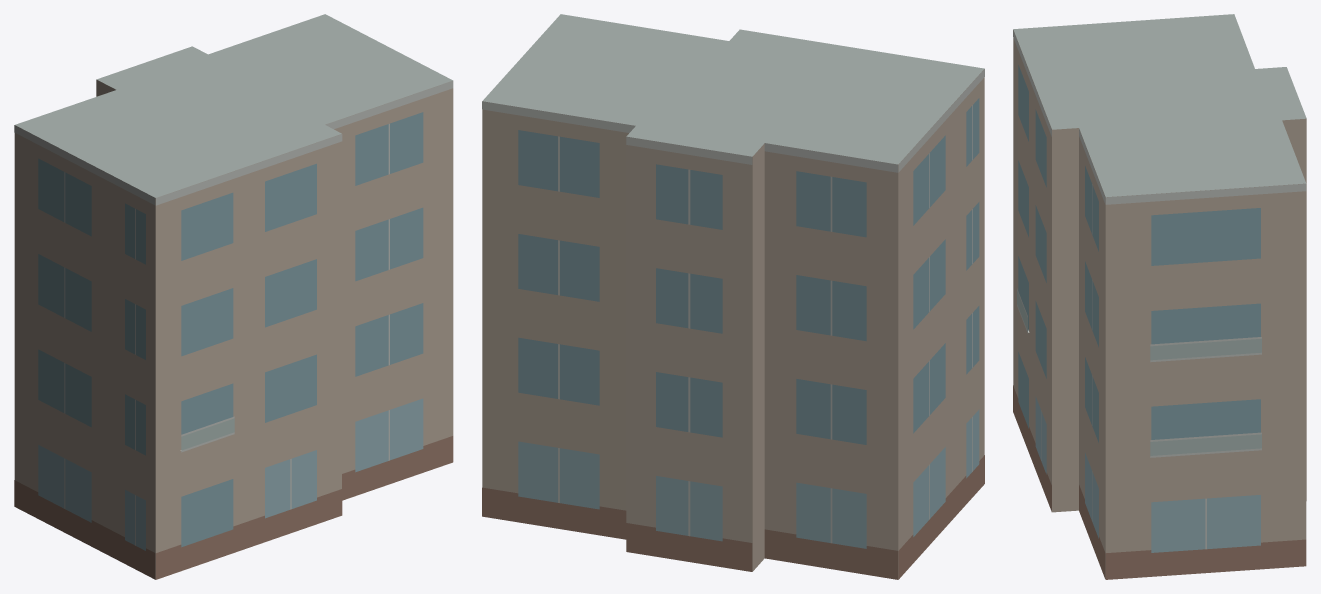
The model's file is residential-e2e9313f-d636-47a1-bed2-4a9e6e511b82.glb.
3 renders of one model, left to right at view 1: azimuth 30°, elevation 25°; view 2: azimuth 150°, elevation 25°; view 3: azimuth 270°, elevation 25°, orthographic. The views are drawn at different scales.
Parts seen in each view (by area): view 1: residential-e2e9313f-d636-47a1-bed2-4a9e6e511b82.tmp; view 2: residential-e2e9313f-d636-47a1-bed2-4a9e6e511b82.tmp; view 3: residential-e2e9313f-d636-47a1-bed2-4a9e6e511b82.tmp.
Part boxes in pixels (<box>): residential-e2e9313f-d636-47a1-bed2-4a9e6e511b82.tmp: <box>14,14,453,579</box>; residential-e2e9313f-d636-47a1-bed2-4a9e6e511b82.tmp: <box>482,14,984,579</box>; residential-e2e9313f-d636-47a1-bed2-4a9e6e511b82.tmp: <box>1013,14,1306,579</box>.
Bounding box in the file's own units: 12.54 × 12.2 × 8.49.
